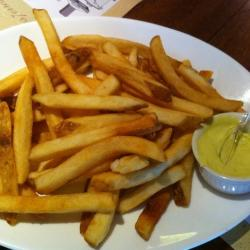fries: (2, 39, 187, 205)
